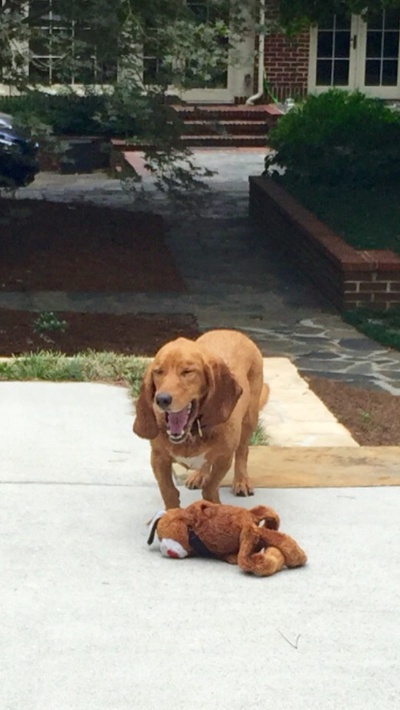daisy: (120, 326, 244, 448)
